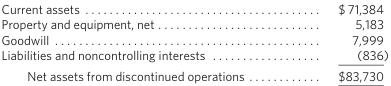table: (0, 0, 388, 82)
table column: (0, 0, 290, 82), (290, 0, 388, 82)
table row: (0, 46, 388, 64), (0, 64, 388, 82), (0, 15, 388, 31), (0, 0, 388, 15), (0, 31, 388, 46)
